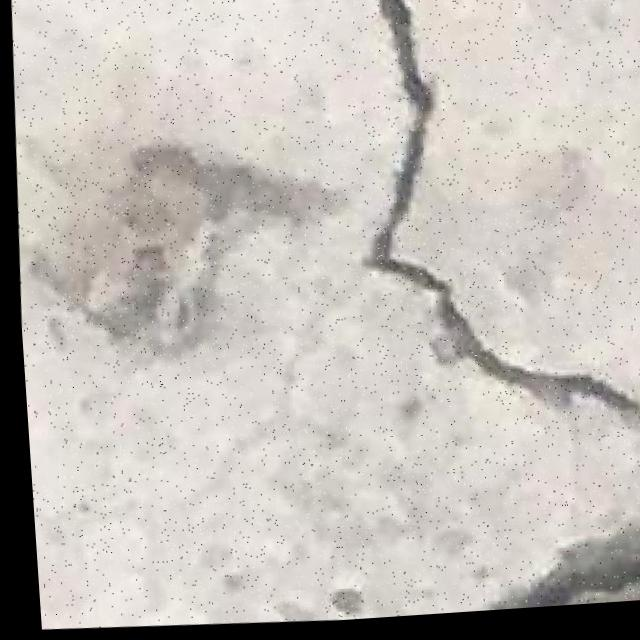Crack: (342, 0, 640, 464)
